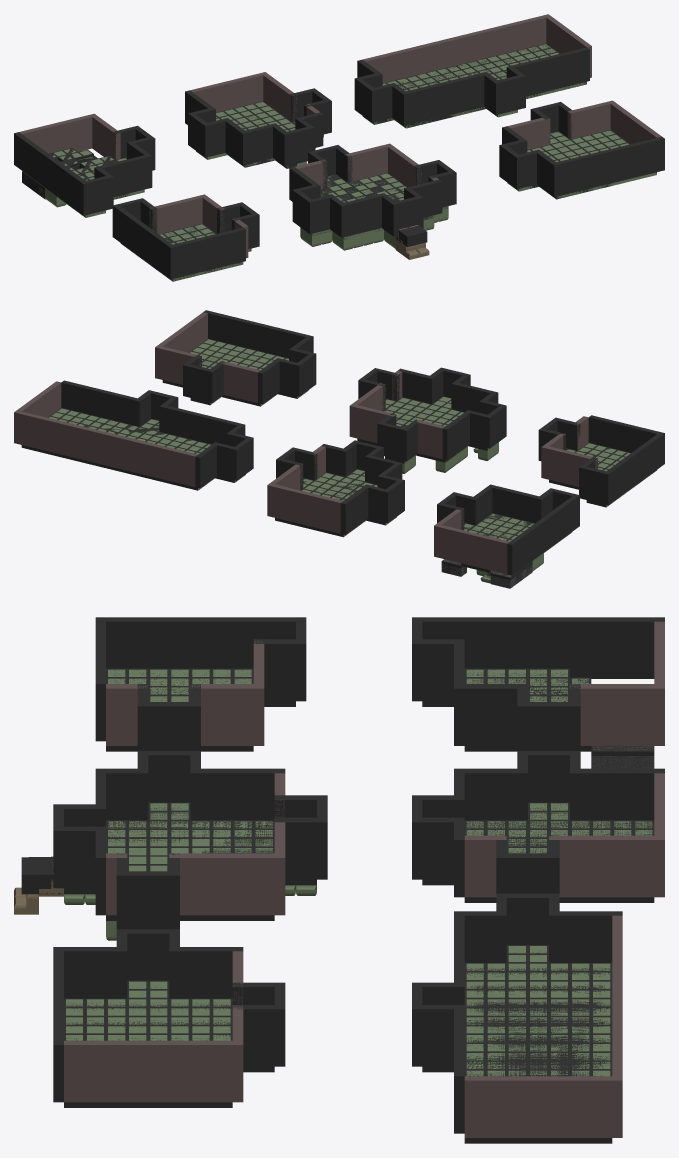
The model's file is level_2.fbx.
3 views of the same model, one above another, from view 1: azimuth 30°, elevation 25°; view 2: azimuth 150°, elevation 25°; view 3: azimuth 270°, elevation 25° (orthographic). The views are drawn at different scales.
Parts seen in each view (by area): view 1: limits_level_2, level_2_walls_5_1, l2_room_2_mesh, level_2_walls_1_2, level_2_walls_3_1, l2_room_3_mesh, level_2_walls_2_1, level_2_walls_6_2, level_2_walls_4_2, level_2_walls_6_3, level_2_walls_5_2, l2_room_1_mesh (+9 smaller); view 2: limits_level_2, level_2_walls_5_1, level_2_walls_3_1, level_2_walls_1_2, l2_room_2_mesh, level_2_walls_2_1, level_2_walls_6_1, l2_room_1_mesh, l2_room_3_mesh, level_2_walls_4_2, level_2_walls_6_2, l2_room_4_mesh (+9 smaller); view 3: limits_level_2, l2_room_2_mesh, level_2_walls_6_3, level_2_walls_5_2, l2_room_3_mesh, level_2_walls_3_2, level_2_walls_4_3, l2_room_1_mesh, level_2_walls_1_1, l2_room_4_mesh, level_2_walls_2_2, level_2_walls_5_1 (+11 smaller).
Boxes of the visible parts, <box> form: limits_level_2: <box>14,47,664,279</box>; level_2_walls_5_1: <box>362,14,550,83</box>; l2_room_2_mesh: <box>363,43,586,127</box>; level_2_walls_1_2: <box>19,113,96,153</box>; level_2_walls_3_1: <box>190,72,267,112</box>; l2_room_3_mesh: <box>300,173,447,247</box>; level_2_walls_2_1: <box>149,194,207,234</box>; level_2_walls_6_2: <box>567,100,615,139</box>; level_2_walls_4_2: <box>345,143,392,181</box>; level_2_walls_6_3: <box>610,102,661,144</box>; level_2_walls_5_2: <box>546,16,591,77</box>; l2_room_1_mesh: <box>522,130,656,199</box>; limits_level_2: <box>61,310,664,575</box>; level_2_walls_5_1: <box>14,410,197,487</box>; level_2_walls_3_1: <box>267,483,342,533</box>; level_2_walls_1_2: <box>434,524,509,574</box>; l2_room_2_mesh: <box>21,408,236,490</box>; level_2_walls_2_1: <box>541,445,597,486</box>; level_2_walls_6_1: <box>220,361,260,402</box>; l2_room_1_mesh: <box>162,338,304,406</box>; l2_room_3_mesh: <box>357,396,487,463</box>; level_2_walls_4_2: <box>349,404,395,443</box>; level_2_walls_6_2: <box>155,345,201,384</box>; l2_room_4_mesh: <box>275,469,385,537</box>; limits_level_2: <box>53,617,664,1133</box>; l2_room_2_mesh: <box>422,945,612,1143</box>; level_2_walls_6_3: <box>64,1040,232,1102</box>; level_2_walls_5_2: <box>464,1076,612,1137</box>; l2_room_3_mesh: <box>21,802,316,920</box>; level_2_walls_3_2: <box>549,835,654,897</box>; level_2_walls_4_3: <box>169,853,274,915</box>; l2_room_1_mesh: <box>64,980,274,1107</box>; level_2_walls_1_1: <box>570,684,654,745</box>; l2_room_4_mesh: <box>422,802,654,902</box>; level_2_walls_2_2: <box>190,684,253,745</box>; level_2_walls_5_1: <box>612,915,622,1137</box>.
Size of the model in its own units: 5200 by 460 by 3087.
